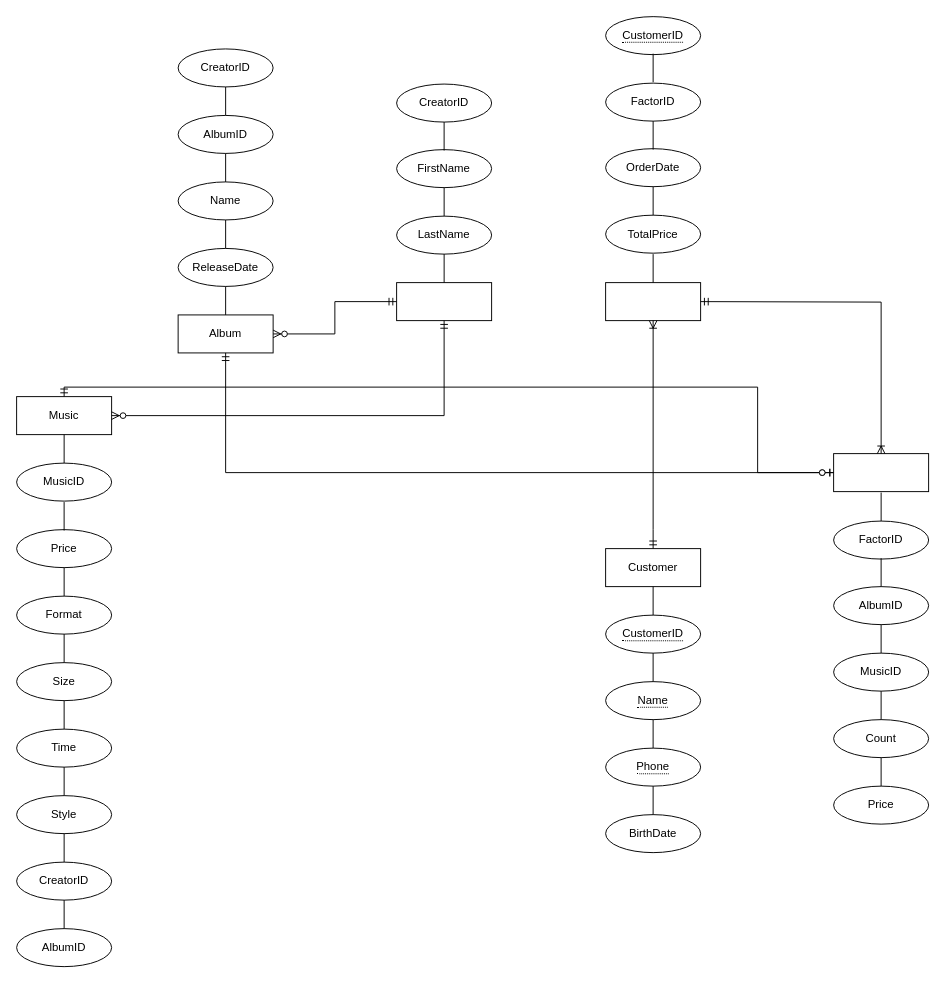
This 945x983 diagram has some shape labels left out. Here are the shapes that lost their labels. From the top down, the centre of each, then its label:
At point 444,301: "Creator".
At point 653,301: "Factor".
At point 881,472: "FactorDetail".
